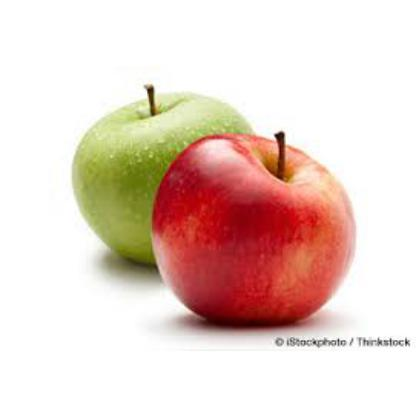apple: (150, 140, 350, 286), (76, 96, 262, 244)
